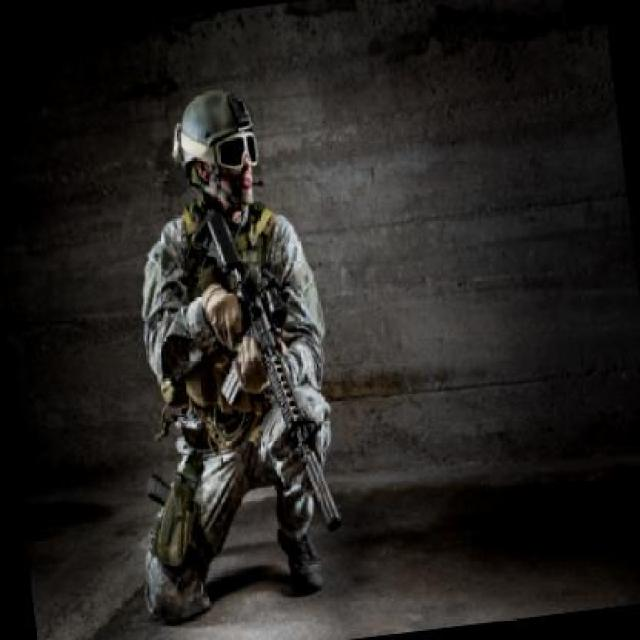MIL_Pax: (79, 79, 358, 630)
